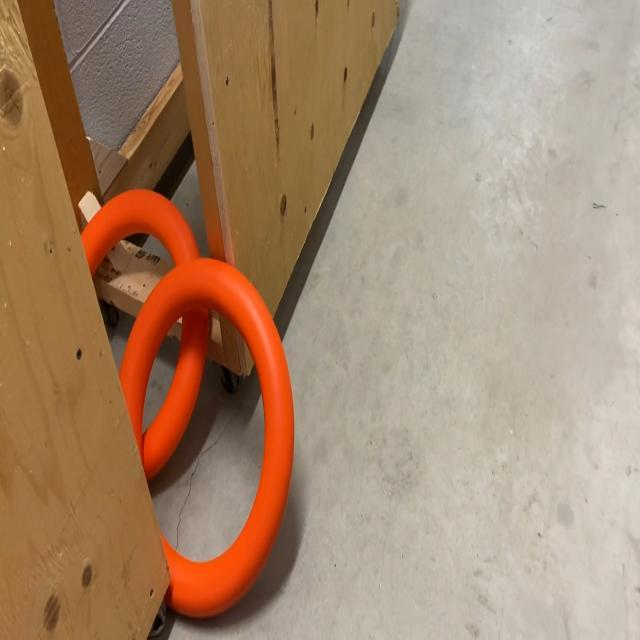note: (117, 254, 296, 620), (79, 184, 211, 478)
